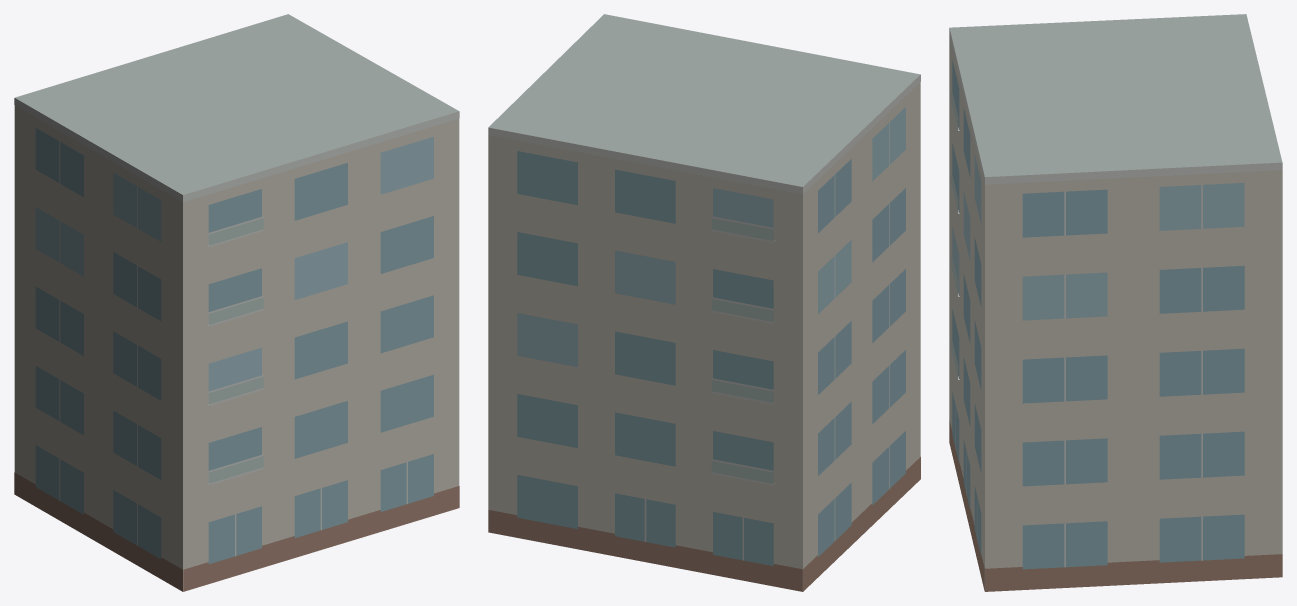
Rendered from survey-upis-32653049.glb.
3 views of the same model, side by side, from view 1: azimuth 30°, elevation 25°; view 2: azimuth 150°, elevation 25°; view 3: azimuth 270°, elevation 25° (orthographic). The views are drawn at different scales.
Visible parts, largest first — view 1: survey-upis-32653049.tmp; view 2: survey-upis-32653049.tmp; view 3: survey-upis-32653049.tmp.
Part boxes in pixels (left/top/right/bottom): survey-upis-32653049.tmp: left=14, top=14, right=459, bottom=591; survey-upis-32653049.tmp: left=488, top=14, right=920, bottom=591; survey-upis-32653049.tmp: left=949, top=14, right=1282, bottom=591.
Bounding box in the file's own units: 11.4 × 13.5 × 9.84.
